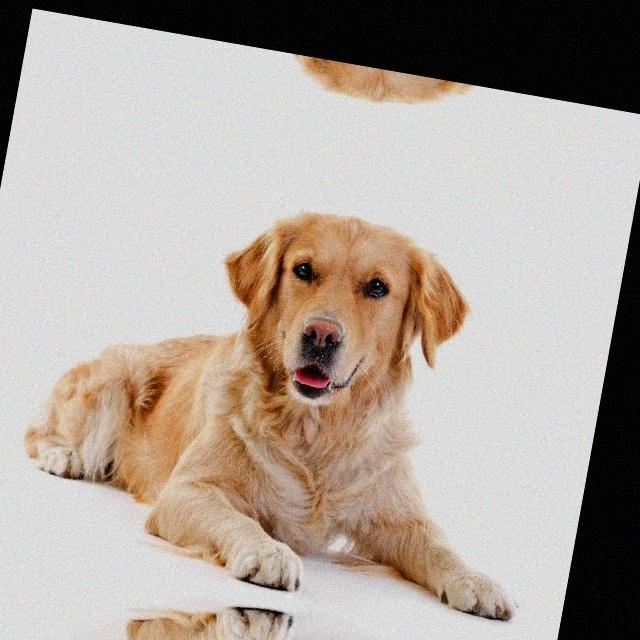dog: (11, 162, 603, 640), (99, 21, 627, 151), (0, 554, 532, 640)
